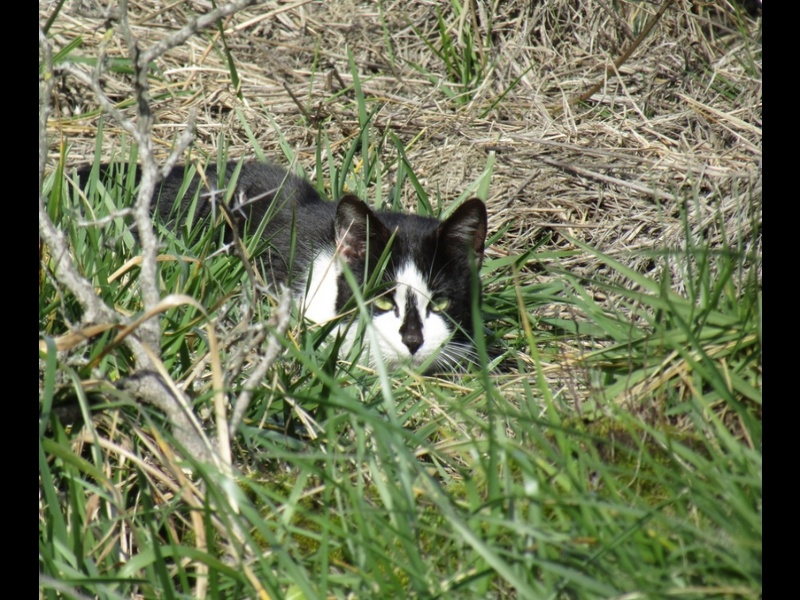cat: (50, 142, 504, 380)
